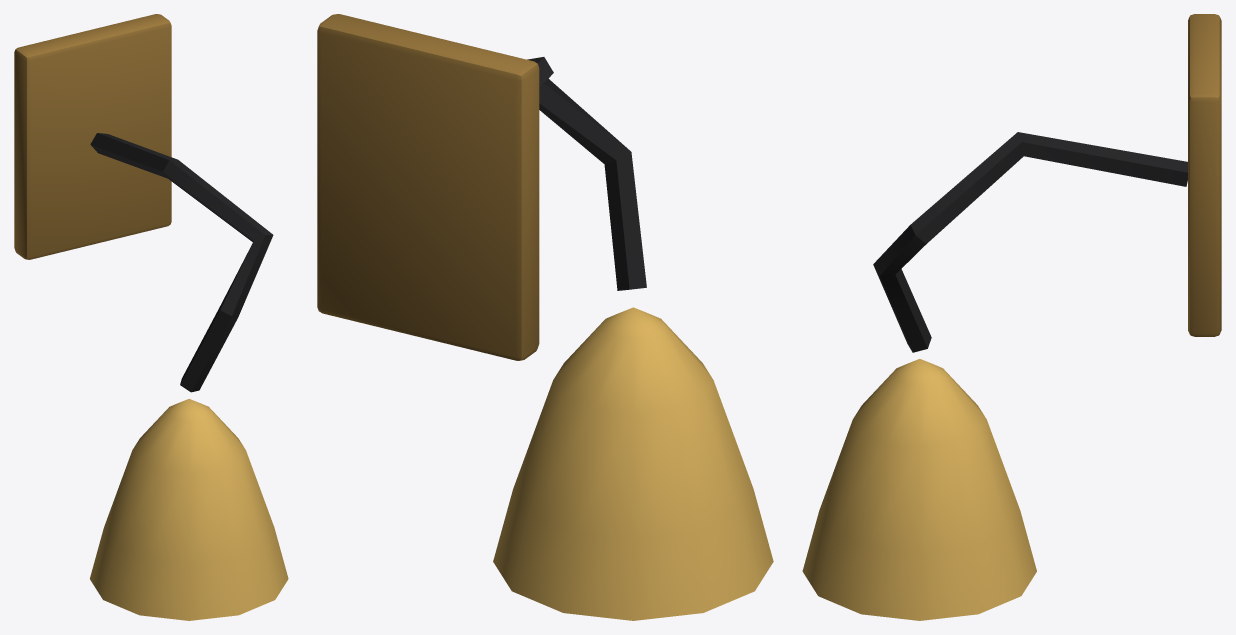
The model's file is mae_door_bell.glb.
The picture shows the model from 3 angles, left to right: view 1: azimuth 30°, elevation 25°; view 2: azimuth 150°, elevation 25°; view 3: azimuth 270°, elevation 25°; orthographic projection. The views are drawn at different scales.
Visible parts, largest first — view 1: mae_door_bell; view 2: mae_door_bell; view 3: mae_door_bell.
Part boxes in pixels (x1,y1,x2,y2): mae_door_bell: (14,14,288,620); mae_door_bell: (317,14,773,620); mae_door_bell: (802,14,1221,620).
Size of the model in its own units: 0.075 by 0.175 by 0.125.
